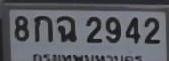2: (85, 16, 101, 42), (144, 16, 158, 43)
4: (125, 16, 139, 43)
8: (14, 15, 28, 40)
9: (105, 16, 120, 42)
A01: (33, 15, 52, 41)
A09: (56, 15, 76, 41)
